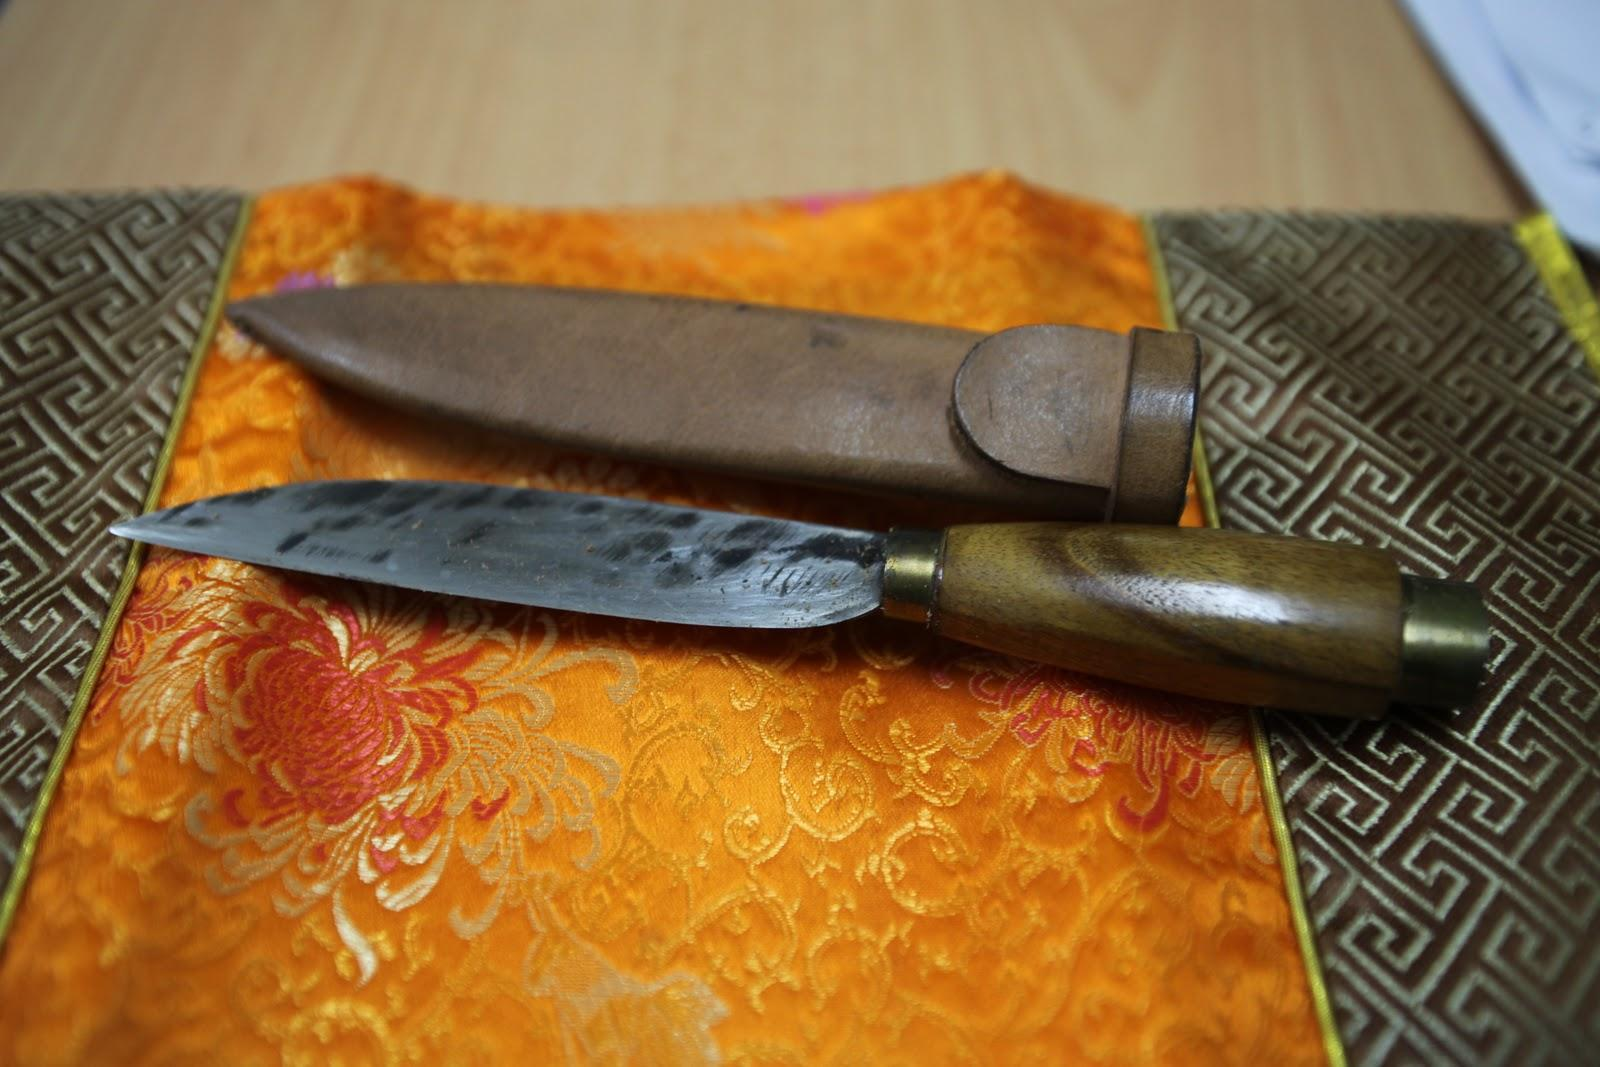faca: (110, 481, 1487, 715)
